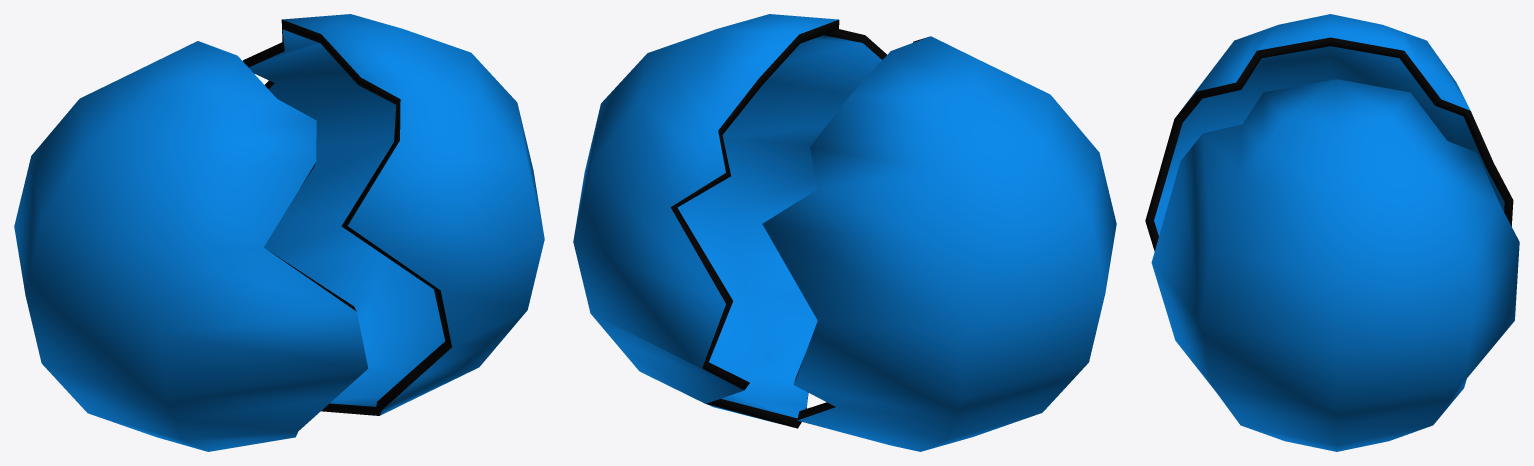
File: Mesh_Eggs.fbx
3 renders of one model, left to right at view 1: azimuth 30°, elevation 25°; view 2: azimuth 150°, elevation 25°; view 3: azimuth 270°, elevation 25°, orthographic. The views are drawn at different scales.
Parts seen in each view (by area): view 1: EggSide_!, EggSide_!.001; view 2: EggSide_!, EggSide_!.001; view 3: EggSide_!.001, EggSide_!.
Part boxes in pixels (x1,y1,x2,y2): EggSide_!: [14, 41, 368, 451]; EggSide_!.001: [243, 14, 544, 415]; EggSide_!: [762, 36, 1116, 451]; EggSide_!.001: [573, 14, 886, 428]; EggSide_!.001: [1151, 79, 1519, 451]; EggSide_!: [1145, 14, 1513, 251].
Size of the model in its own units: 15.3 by 10.78 by 10.44.
